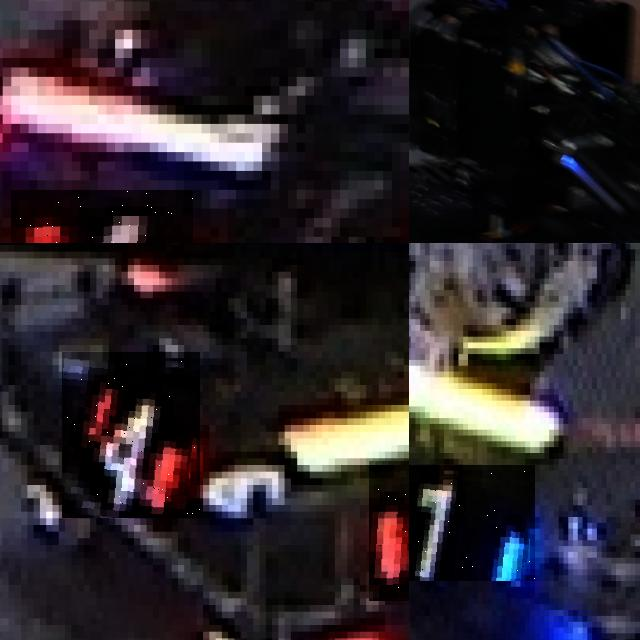B1: (409, 464, 535, 581)
R4: (62, 352, 200, 518), (11, 189, 192, 243), (369, 461, 409, 601)
